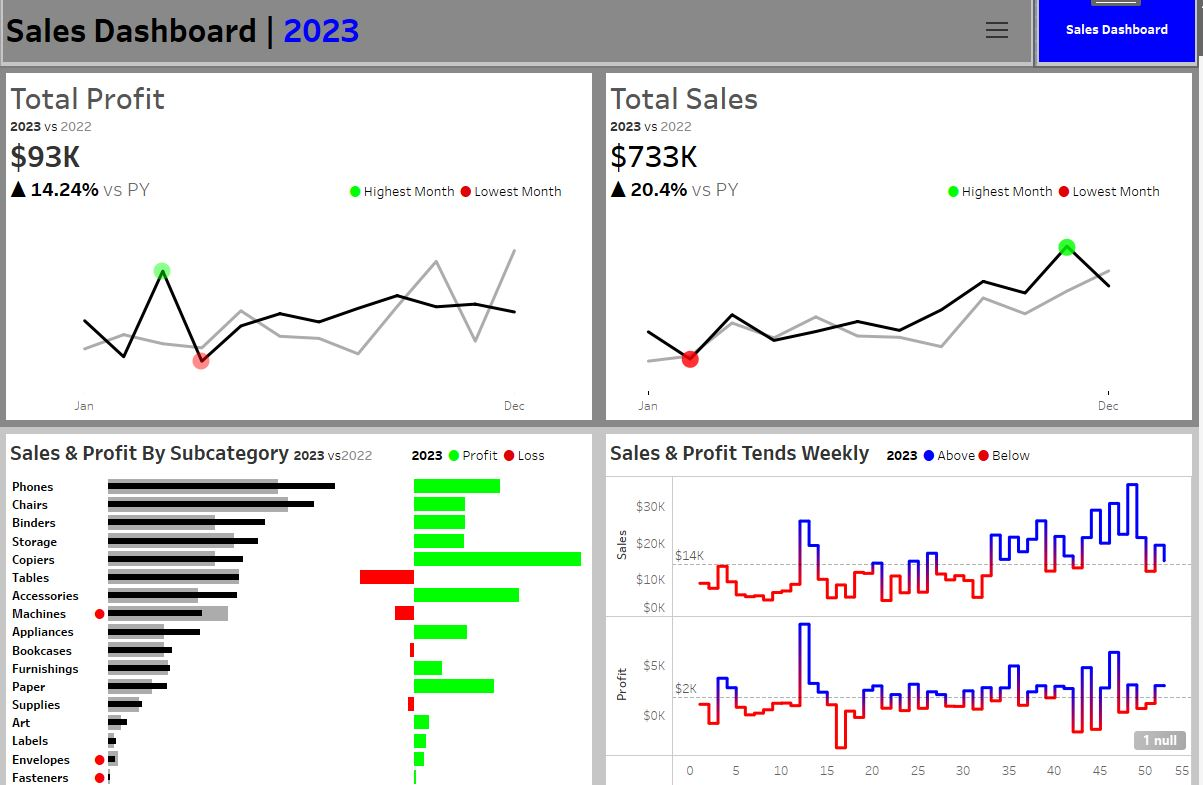

Layout of this report page (visuals, bound fields, positions):
{"tool":"tableau","page":{"name":"Sales Dashboard","canvas":[1200,800],"ordinal":0},"visuals":[{"type":"image","param":"C:/Users/arjun/Downloads/LOGO.JPG","box":[0,0,79,73]},{"type":"text","box":[79,0,1121,73]},{"type":"dashboard-object","box":[1118,4,73,65]},{"type":"blank","box":[971,10,217,60]},{"type":"text","box":[971,70,217,34]},{"type":"worksheet","title":"Profit","mark":"Line","rows":["MIN/MAX Sales (copy)_5506776484879425557"],"cols":["Order Date"],"box":[0,73,600,361]},{"type":"worksheet","title":"Sales","mark":"Automatic","rows":["Calculation_5506776484847726604"],"cols":["Order Date"],"box":[600,73,600,361]},{"type":"parameter","param":"[Parameters].[Parameter 1]","box":[971,104,217,65]},{"type":"blank","box":[971,169,217,64]},{"type":"text","box":[971,233,217,26]},{"type":"filter","title":"Sales","param":"[federated.0oejdyw1js90rj1d2iw9h0i584uv].[none:Category:nk]","box":[971,259,217,52]},{"type":"filter","title":"Sales","param":"[federated.0oejdyw1js90rj1d2iw9h0i584uv].[none:Sub-Category:nk]","box":[971,311,217,52]},{"type":"blank","box":[971,363,217,58]},{"type":"text","box":[971,421,217,26]},{"type":"worksheet","title":"Subcategory Comparison","mark":"Bar","rows":["Sub-Category","Calculation_5454140665222828032"],"cols":["CY Sales  (copy)_5506776484828086276","Calculation_5506776484825485312","CY Sales  (copy)_5506776484827873283"],"box":[0,434,600,366]},{"type":"worksheet","title":"Weekly Trends","mark":"Automatic","rows":["Calculation_5506776484825485312","CY Sales  (copy)_5506776484827873283"],"cols":["Order Date"],"box":[600,434,600,366]},{"type":"filter","title":"Sales","param":"[federated.0oejdyw1js90rj1d2iw9h0i584uv].[none:Country/Region:nk]","box":[971,447,217,52]},{"type":"filter","title":"Sales","param":"[federated.0oejdyw1js90rj1d2iw9h0i584uv].[none:City:nk]","box":[971,499,217,52]},{"type":"filter","title":"Sales","param":"[federated.0oejdyw1js90rj1d2iw9h0i584uv].[none:State:nk]","box":[971,551,217,52]}]}

Visuals, with their boxes in screenshot pixels (x1, y1, x2, y2), scaled from the page's 1200x800 canvas onto the 1203x785 screenshot:
image: x1=0, y1=0, x2=79, y2=72
text: x1=79, y1=0, x2=1202, y2=72
dashboard-object: x1=1121, y1=4, x2=1194, y2=68
blank: x1=973, y1=10, x2=1191, y2=69
text: x1=973, y1=69, x2=1191, y2=102
"Profit" worksheet (Line marks): x1=0, y1=72, x2=602, y2=426
"Sales" worksheet: x1=602, y1=72, x2=1202, y2=426
parameter: x1=973, y1=102, x2=1191, y2=166
blank: x1=973, y1=166, x2=1191, y2=229
text: x1=973, y1=229, x2=1191, y2=254
"Sales" filter: x1=973, y1=254, x2=1191, y2=305
"Sales" filter: x1=973, y1=305, x2=1191, y2=356
blank: x1=973, y1=356, x2=1191, y2=413
text: x1=973, y1=413, x2=1191, y2=439
"Subcategory Comparison" worksheet (Bar marks): x1=0, y1=426, x2=602, y2=784
"Weekly Trends" worksheet: x1=602, y1=426, x2=1202, y2=784
"Sales" filter: x1=973, y1=439, x2=1191, y2=490
"Sales" filter: x1=973, y1=490, x2=1191, y2=541
"Sales" filter: x1=973, y1=541, x2=1191, y2=592
